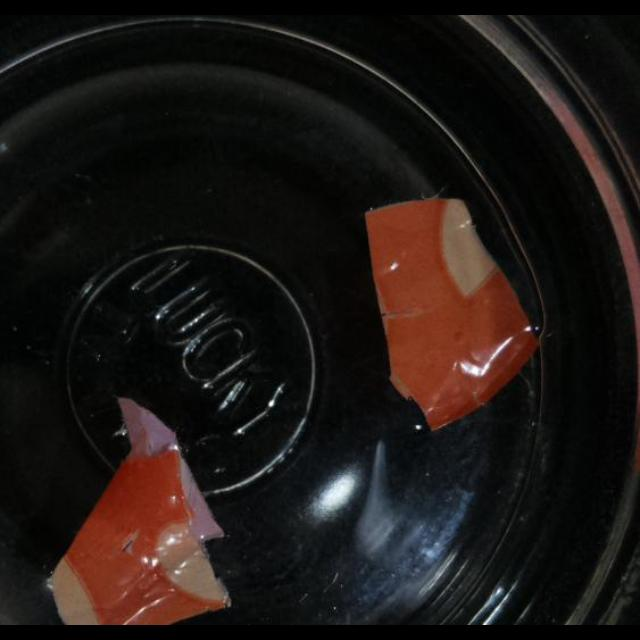Fragment: (364, 198, 540, 432), (51, 404, 229, 620)
